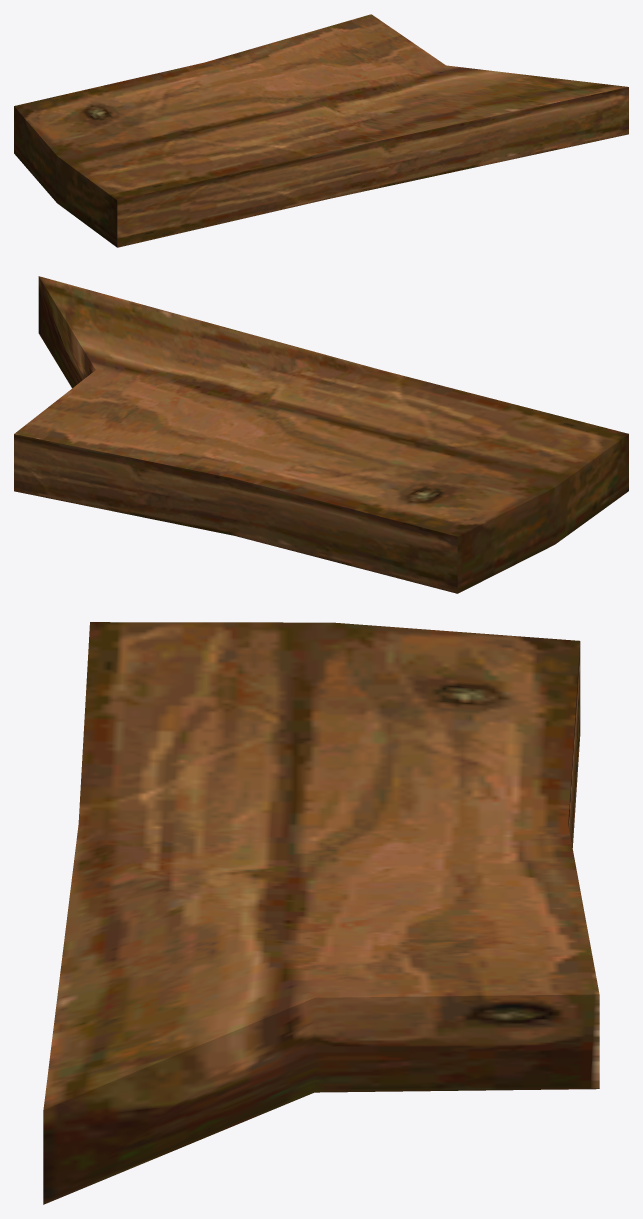
Rendered from environment_common_muban_001_b.FBX.
3 views of the same model, one above another, from view 1: azimuth 30°, elevation 25°; view 2: azimuth 150°, elevation 25°; view 3: azimuth 270°, elevation 25° (orthographic). The views are drawn at different scales.
Parts seen in each view (by area): view 1: environment_common_muban_001_b; view 2: environment_common_muban_001_b; view 3: environment_common_muban_001_b.
Part boxes in pixels (x1,y1,x2,y2): environment_common_muban_001_b: [14, 14, 628, 247]; environment_common_muban_001_b: [14, 276, 628, 593]; environment_common_muban_001_b: [43, 622, 599, 1204].
Bounding box in the file's own units: 261 × 23.67 × 126.
